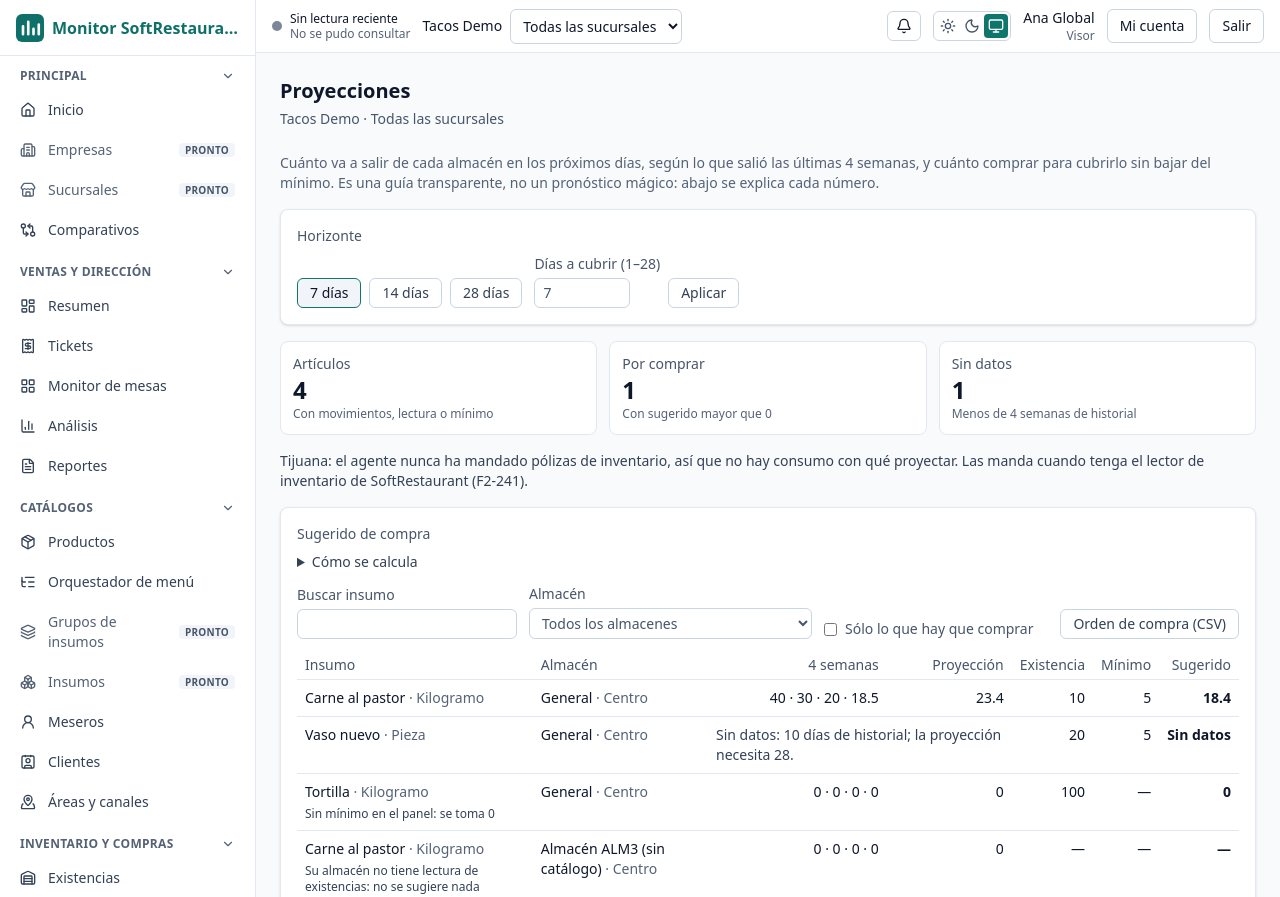
Proyecciones (F2-127) › filtro "sólo lo que hay que comprar" y búsqueda local
The image size is (1280, 897).
Click the checkbox labelled "Sólo lo que hay que comprar" at (830, 629), box [824,622,837,636]
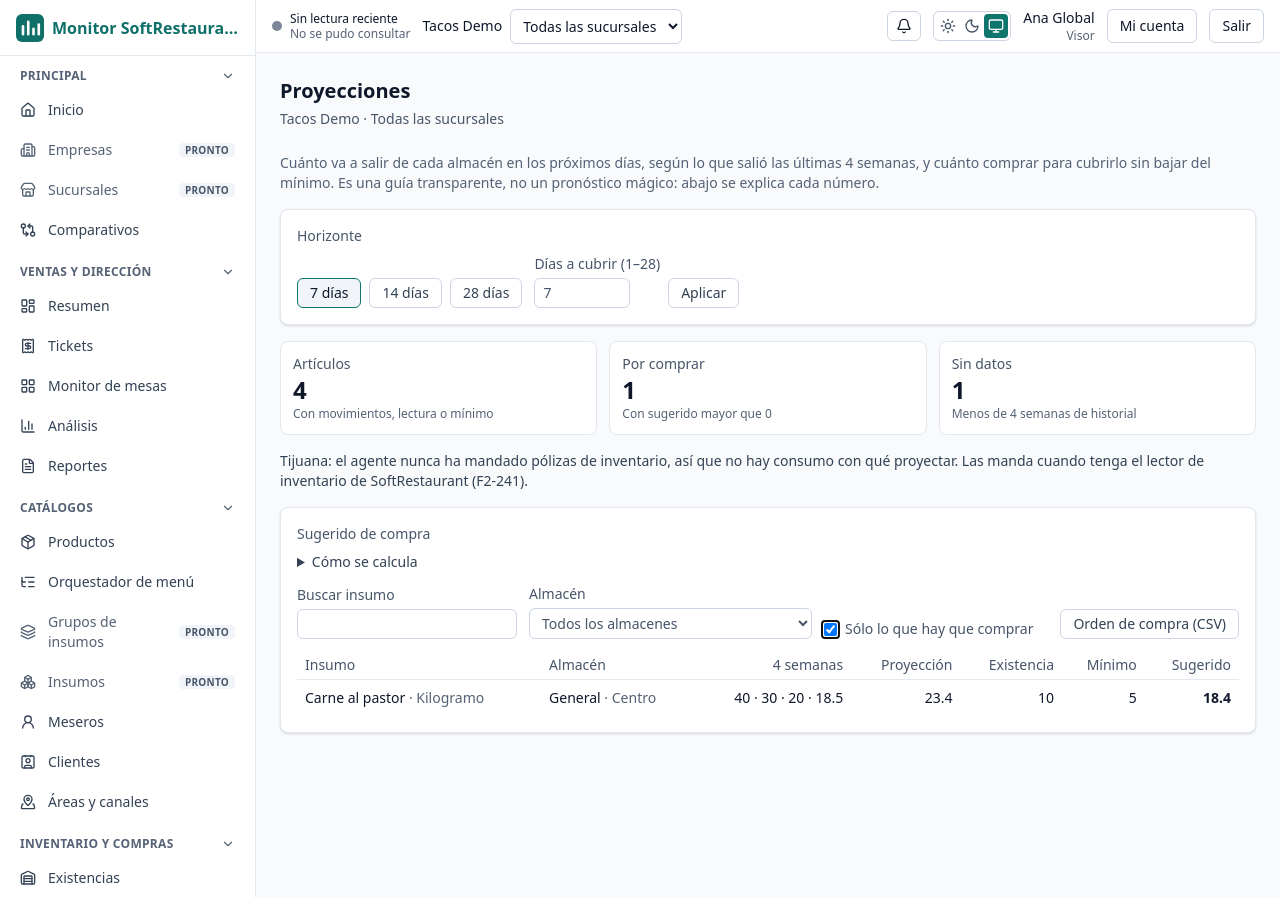
Result: the number of rows with test id "fila-proyeccion" is 1 at [297,680,1239,716]
Click the checkbox labelled "Sólo lo que hay que comprar" at (830, 629), box [824,622,837,636]
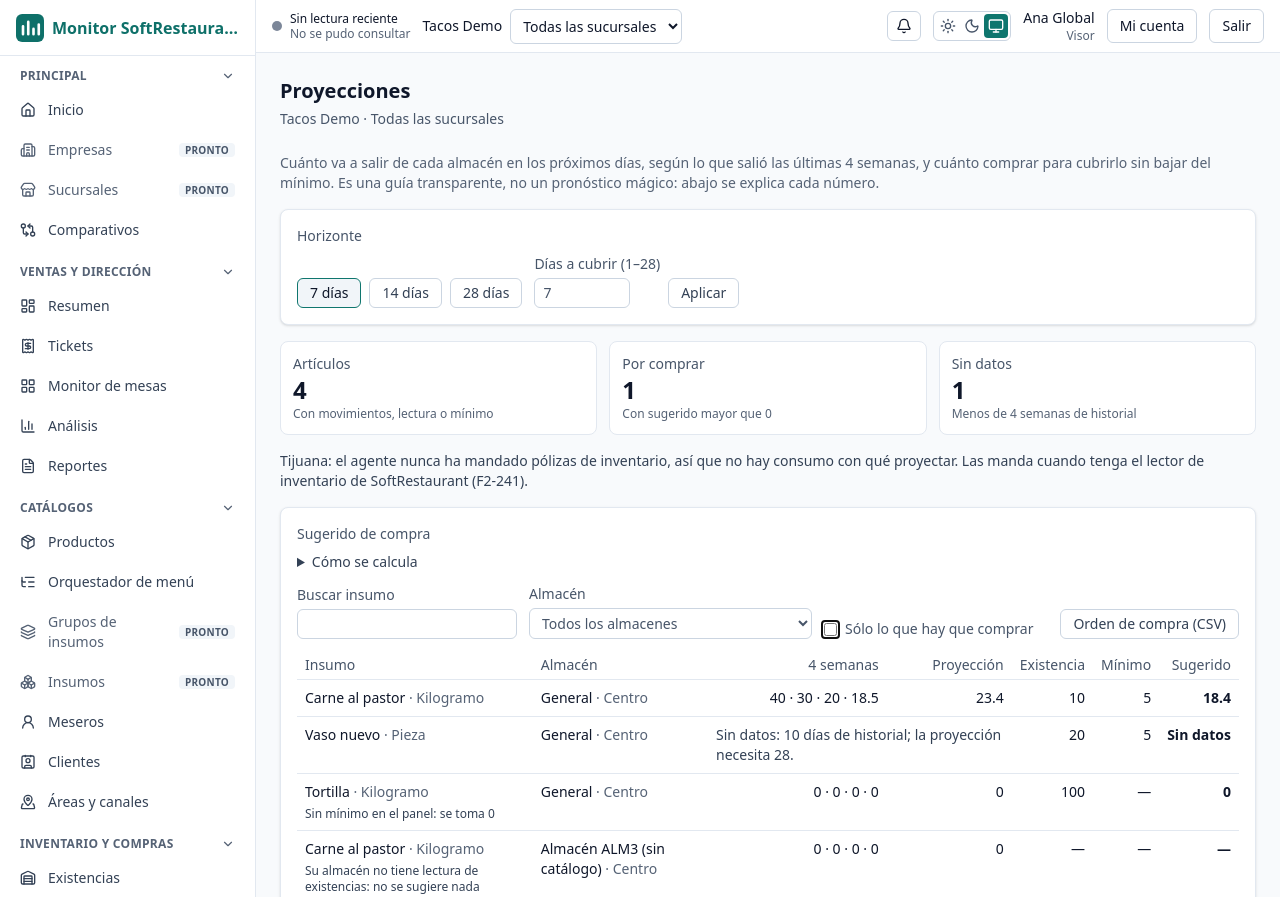
Type "vaso" into the search field labelled "Buscar insumo" at (407, 624), box [297,609,517,639]
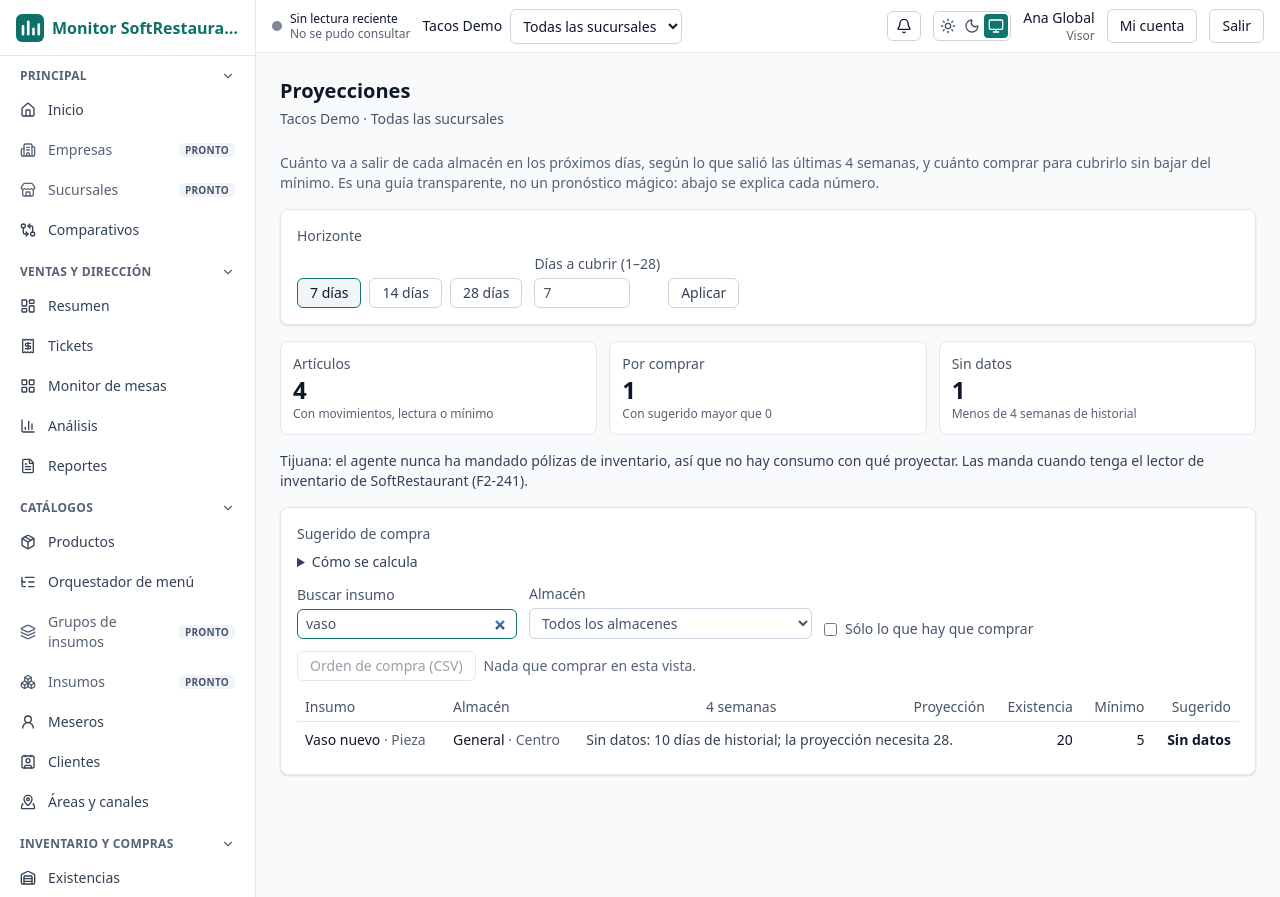
Result: the row with test id "fila-proyeccion" shows "Vaso nuevo" at [305,730,380,749]
Result: the number of rows with test id "fila-proyeccion" is 1 at [297,722,1239,758]
